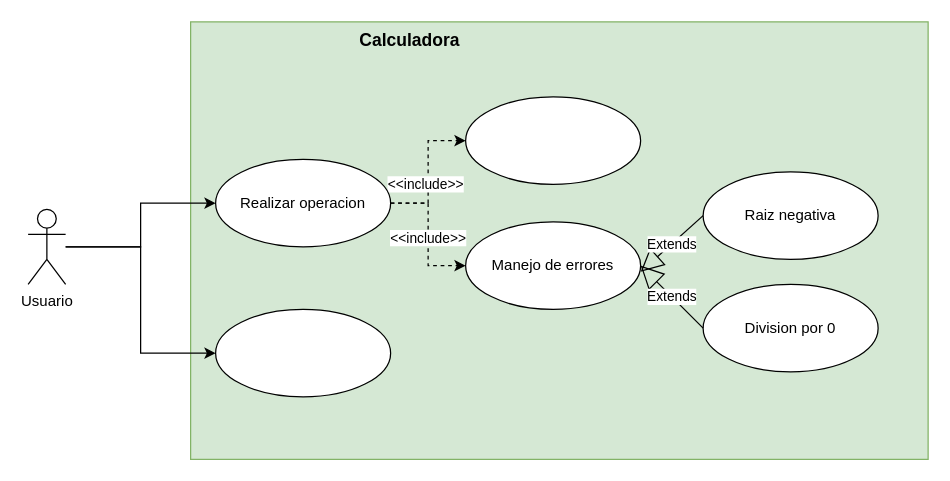
Image size: 950x481. Some labels were removed from this diagram. The centre of each missing label's shape, as x and y in pixels:
"Guardar historial de operaciones" goes at pixel 552 140.
"Mostrar historial" goes at pixel 302 352.
